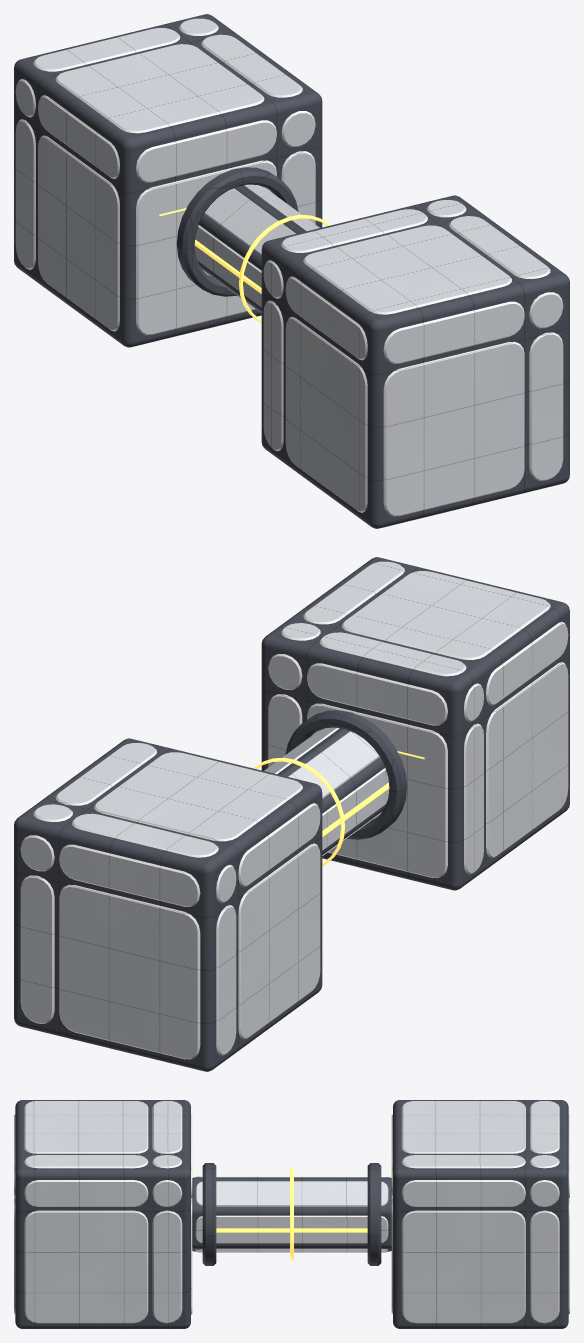
Rendered from R4C_STRUT_STANDARD.glb.
The picture shows the model from 3 angles, top to bottom: view 1: azimuth 30°, elevation 25°; view 2: azimuth 150°, elevation 25°; view 3: azimuth 270°, elevation 25°; orthographic projection. The views are drawn at different scales.
Visible parts, largest first — view 1: R4C_STRUT_STANDARD; view 2: R4C_STRUT_STANDARD; view 3: R4C_STRUT_STANDARD.
Part boxes in pixels (box(x1,y1,x2,y2)): R4C_STRUT_STANDARD: box(14, 14, 569, 528); R4C_STRUT_STANDARD: box(14, 557, 569, 1071); R4C_STRUT_STANDARD: box(14, 1100, 569, 1328).
Bounding box in the file's own units: 0.52 × 0.52 × 1.62.
Materials: 4 (3 with a texture image).
